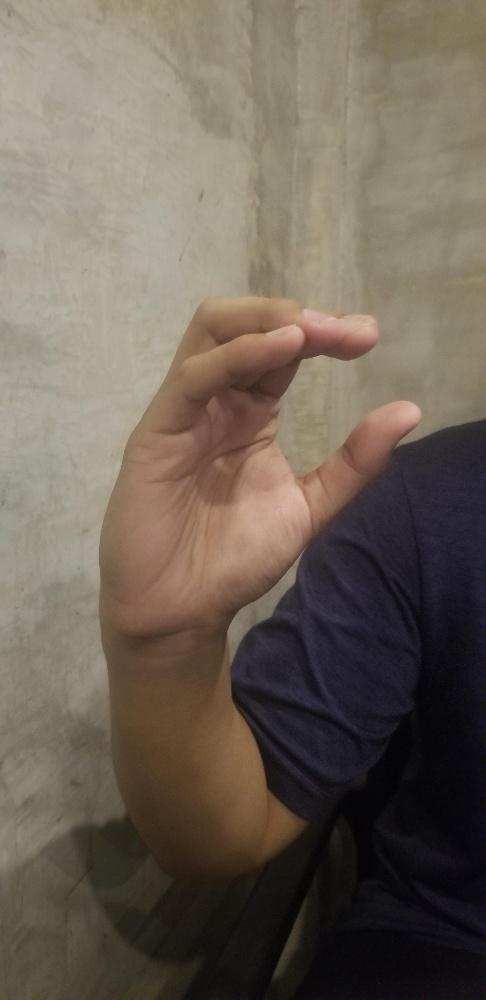c: (95, 290, 417, 631)
